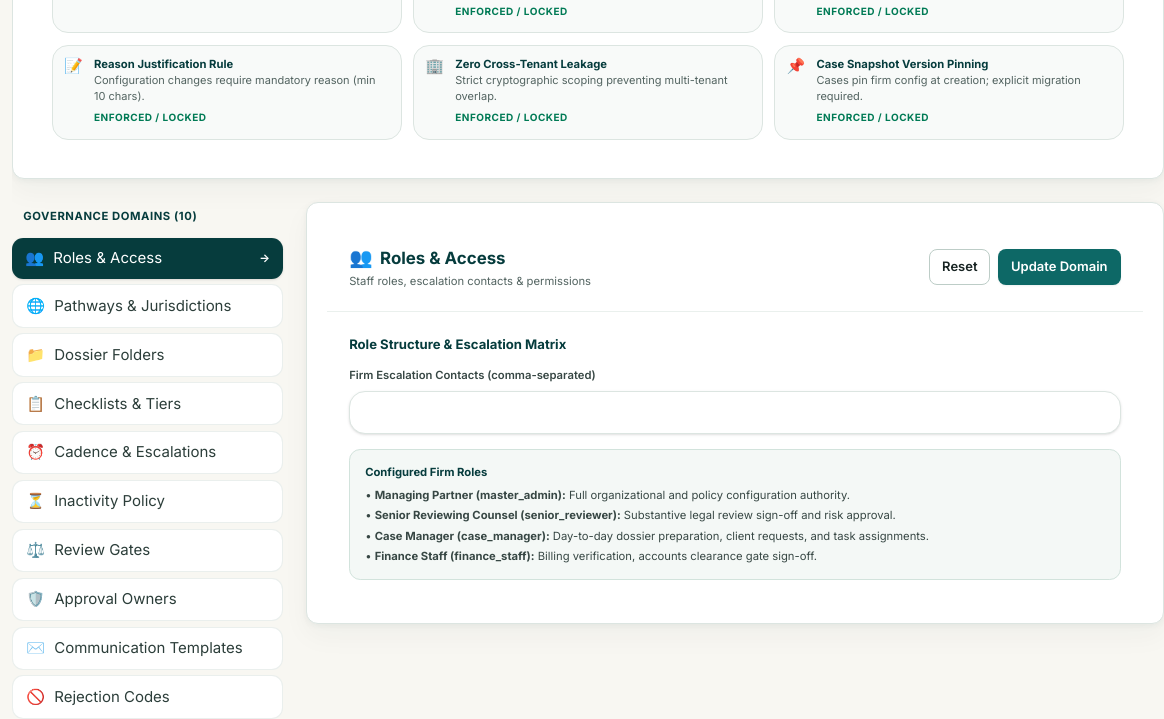
Test: Phase 9 — Firm Configuration and Approval Gates › FirmConfigurationHub Component › allows switching tabs and shows domain-specific editors
This screenshot has width=1164, height=719.
(page scrolled)
// Switch to Reminders tab
Click the text "Cadence & Escalations": (135, 453) x1=54 y1=441 x2=216 y2=464
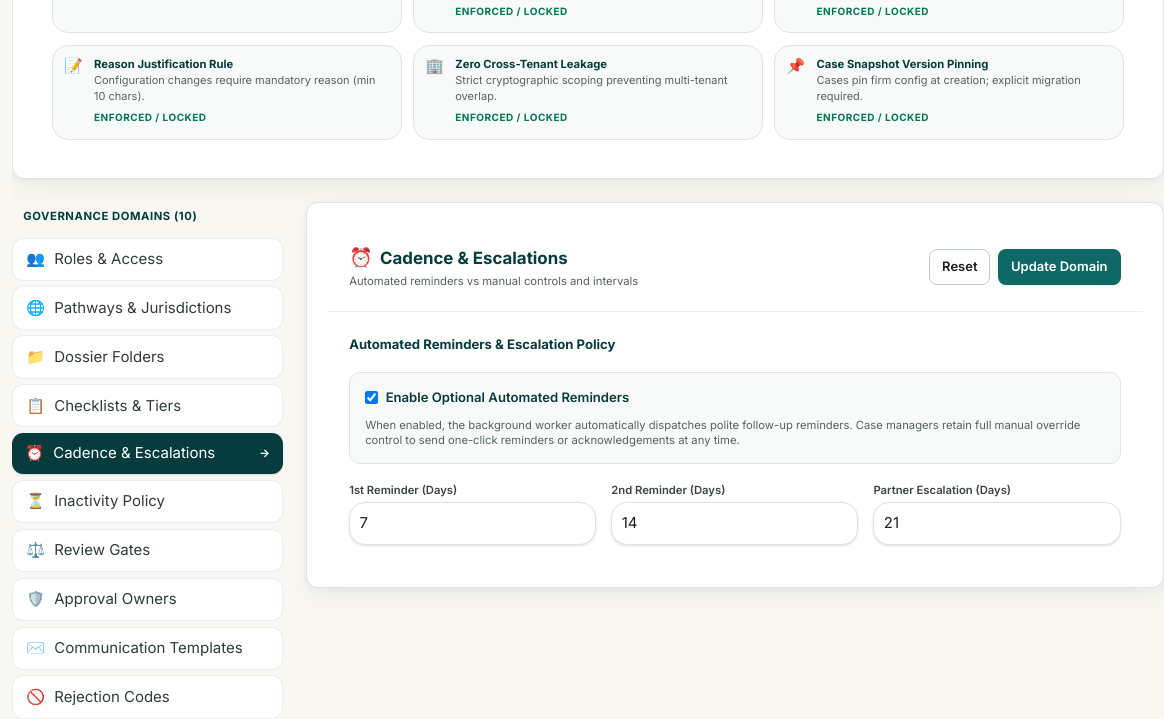
Check: the heading "Automated Reminders & Escalation Policy" is shown, box x1=349 y1=336 x2=615 y2=352
Check: the text "Enable Optional Automated Reminders" is shown, box x1=386 y1=388 x2=629 y2=407
Check: the text "1st Reminder (Days)" is shown, box x1=349 y1=483 x2=457 y2=497
// Switch to Review Gates tab
Click the text "Review Gates": (102, 550) x1=54 y1=539 x2=150 y2=562
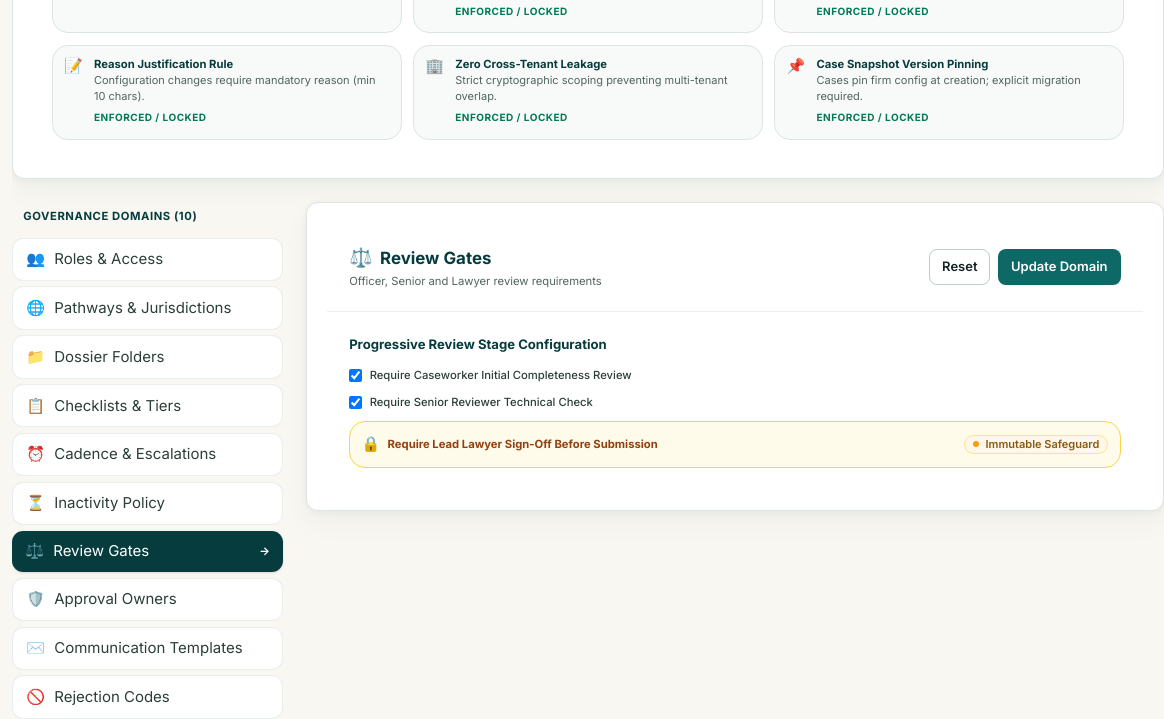
Check: the heading "Progressive Review Stage Configuration" is shown, box x1=349 y1=336 x2=607 y2=352
Check: the text "Require Lead Lawyer Sign-Off Before Submission" is shown, box x1=388 y1=437 x2=658 y2=452
